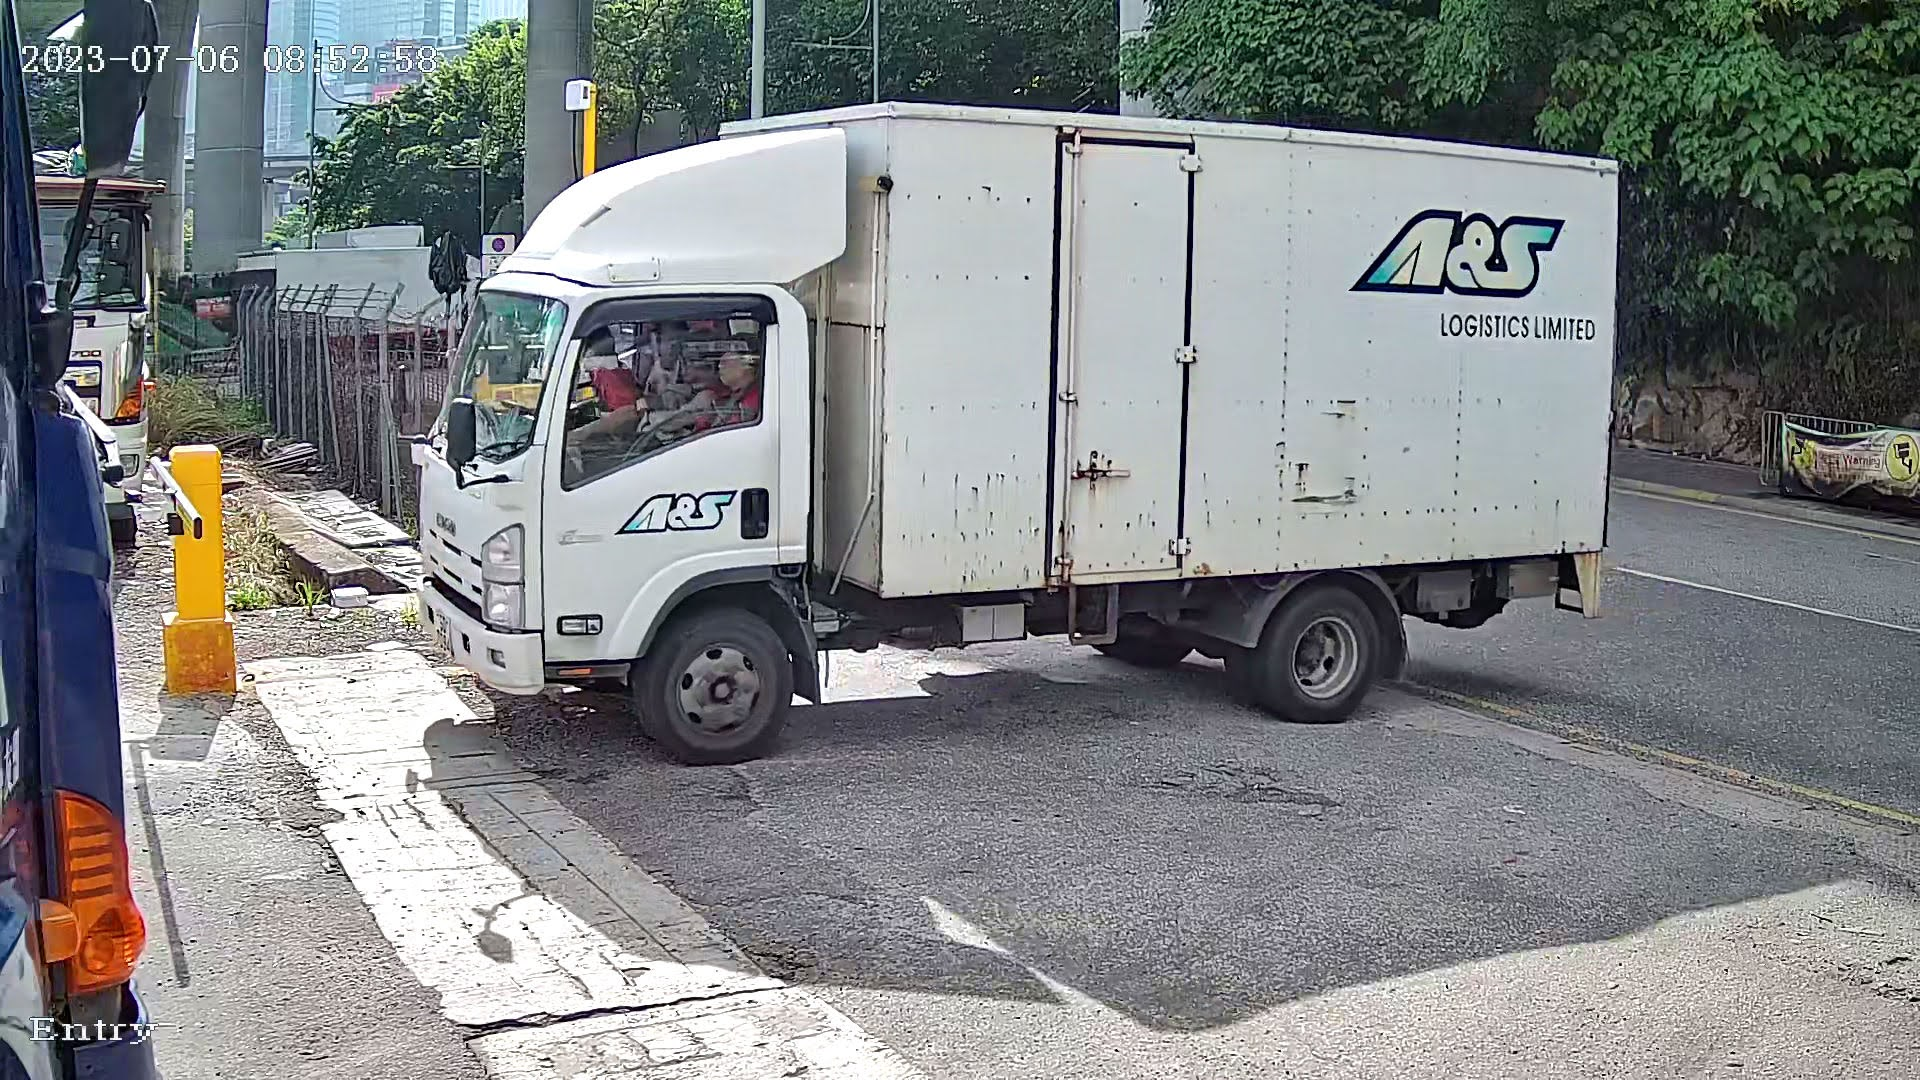truck: (388, 50, 1698, 796)
